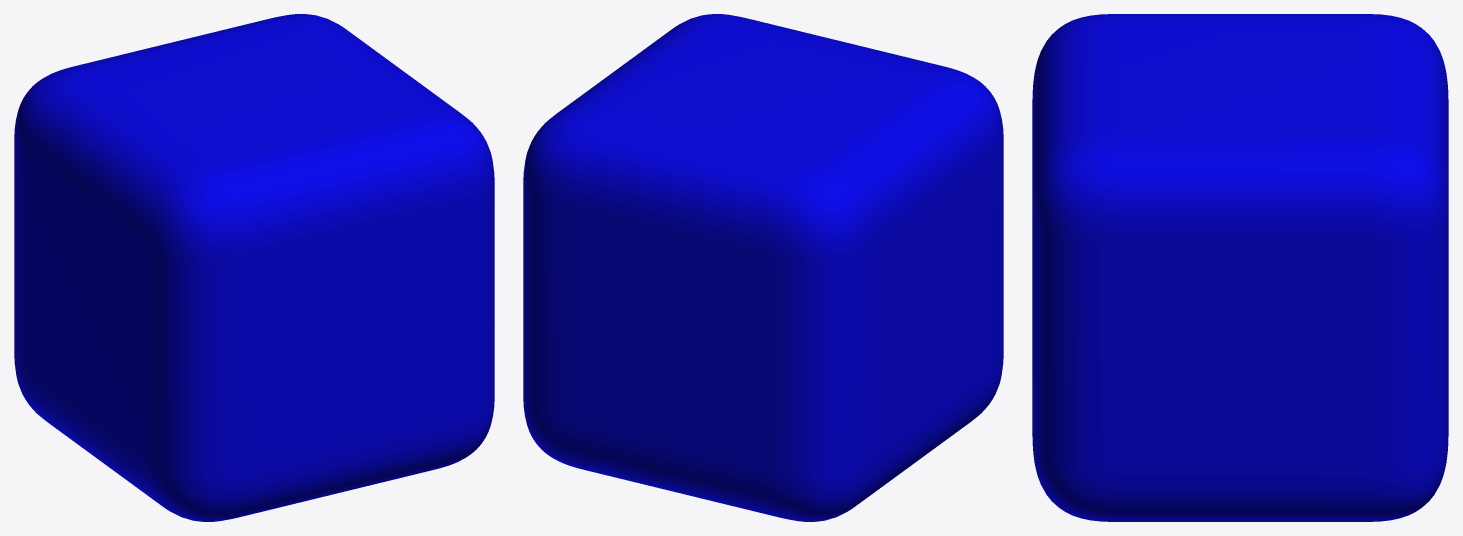
3 views of the same model, side by side, from view 1: azimuth 30°, elevation 25°; view 2: azimuth 150°, elevation 25°; view 3: azimuth 270°, elevation 25° (orthographic). The views are drawn at different scales.
Parts seen in each view (by area): view 1: Cube; view 2: Cube; view 3: Cube.
Boxes of the visible parts, x1,y1,x2,y2 form: Cube: (14,14,494,521); Cube: (523,14,1003,521); Cube: (1032,14,1448,521).
Size of the model in its own units: 115 by 115 by 115.
